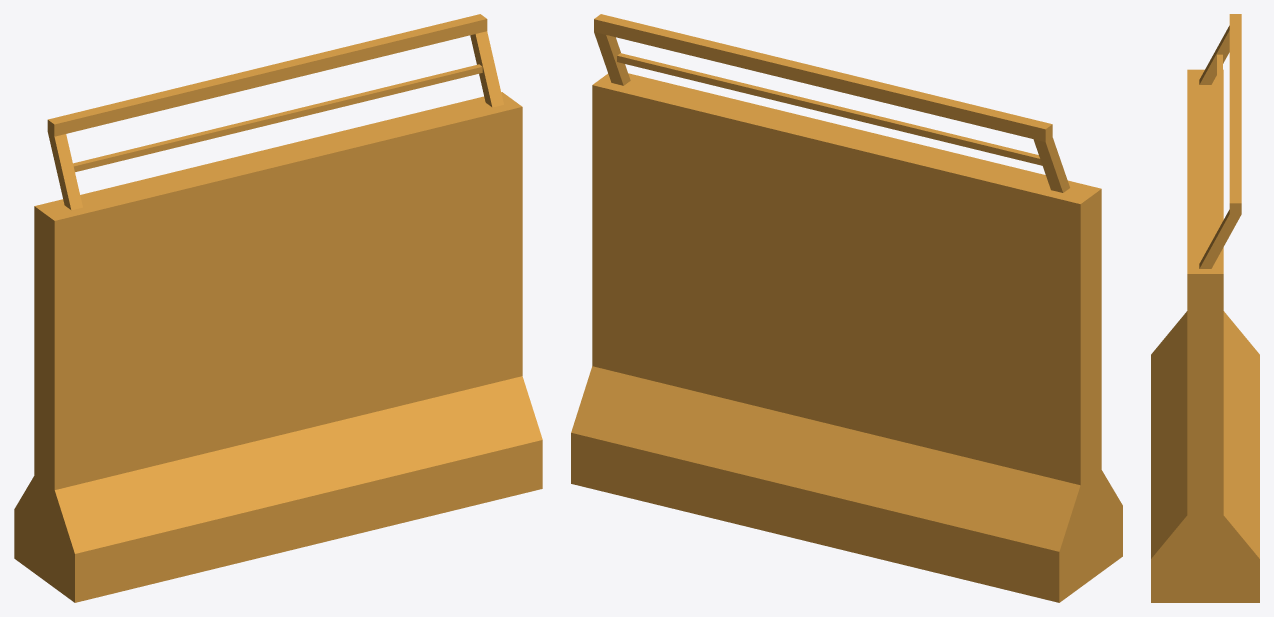
File: military-wall.fbx
The picture shows the model from 3 angles, left to right: view 1: azimuth 30°, elevation 25°; view 2: azimuth 150°, elevation 25°; view 3: azimuth 270°, elevation 25°; orthographic projection. The views are drawn at different scales.
Parts seen in each view (by area): view 1: military-wall; view 2: military-wall; view 3: military-wall.
Boxes of the visible parts, left/top/right/bottom form: military-wall: left=14, top=14, right=542, bottom=602; military-wall: left=571, top=14, right=1122, bottom=602; military-wall: left=1151, top=14, right=1259, bottom=602.
Bounding box in the file's own units: 4 × 3.6 × 0.9.
